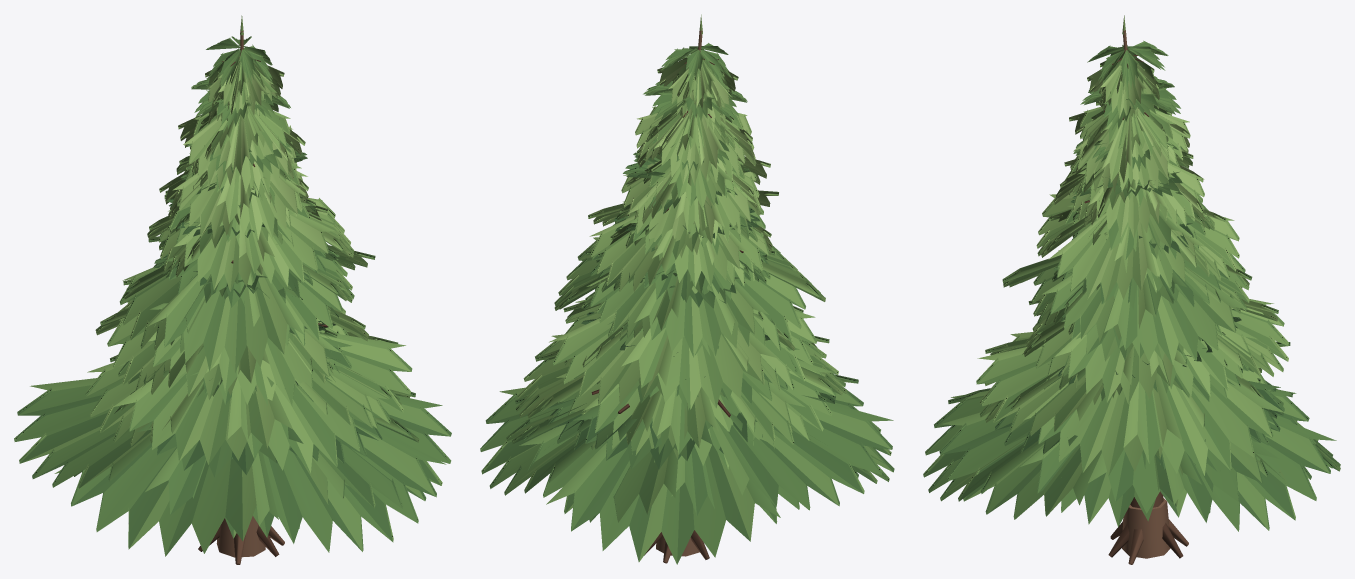
Rendered from conifer.glb.
3 renders of one model, left to right at view 1: azimuth 30°, elevation 25°; view 2: azimuth 150°, elevation 25°; view 3: azimuth 270°, elevation 25°, orthographic. The views are drawn at different scales.
Parts seen in each view (by area): view 1: conifer; view 2: conifer; view 3: conifer.
Boxes of the visible parts, box(x1,y1,x2,y2) form: conifer: box(14, 15, 451, 564); conifer: box(480, 14, 894, 564); conifer: box(923, 15, 1340, 564).
Size of the model in its own units: 3.03 by 4.23 by 3.02.
